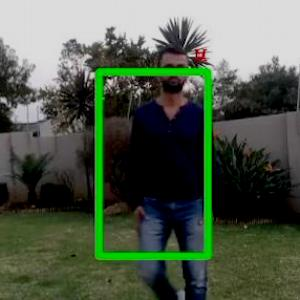follow: (132, 41, 222, 299)
